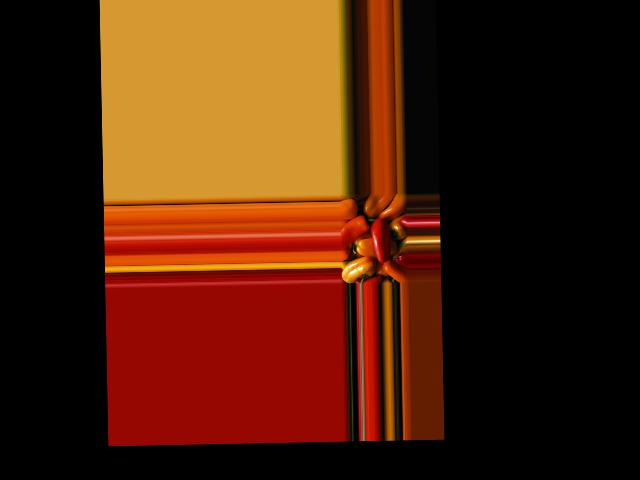bell_pepper: (342, 254, 373, 283)
